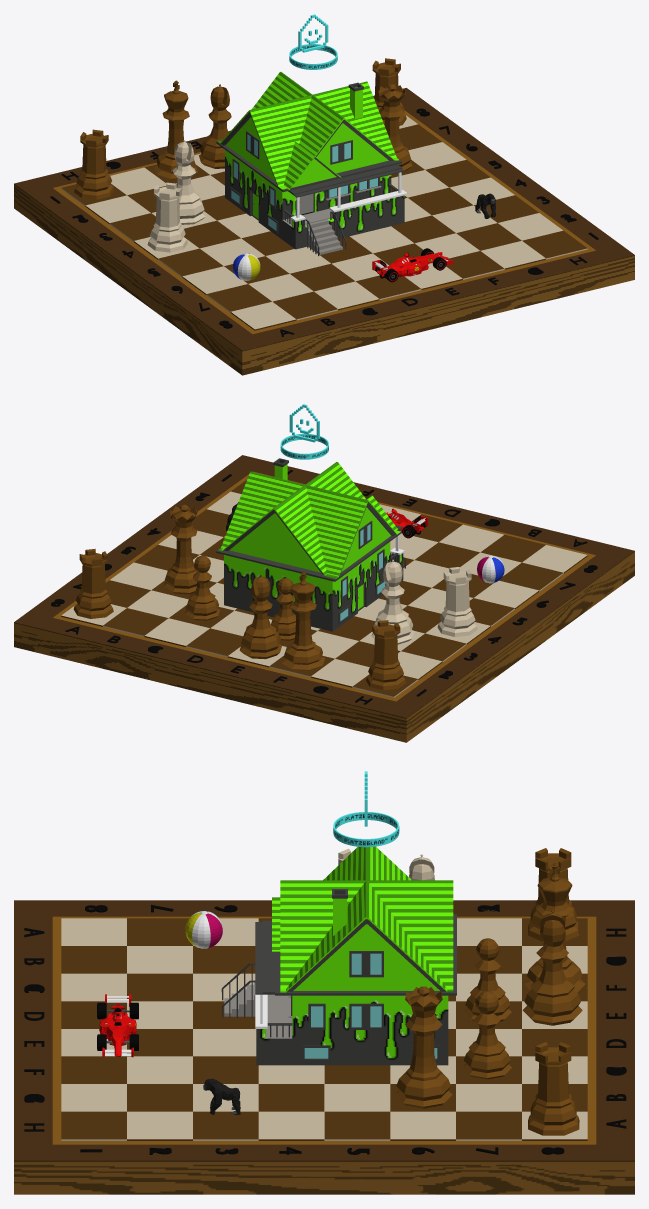
3 views of the same model, one above another, from view 1: azimuth 30°, elevation 25°; view 2: azimuth 150°, elevation 25°; view 3: azimuth 270°, elevation 25° (orthographic). The views are drawn at different scales.
Parts seen in each view (by area): view 1: Cube.002, Cube.754, VEHICLES_FORMULA_1, TYPE_PREMIUM, OBJRANDOM_BEACHBALL; view 2: Cube.002, Cube.754, TYPE_PREMIUM, OBJRANDOM_BEACHBALL, VEHICLES_FORMULA_1; view 3: Cube.002, Cube.754, VEHICLES_FORMULA_1, TYPE_PREMIUM, OBJRANDOM_BEACHBALL, ANIMAL_GORILA.
Boxes of the visible parts, x1,y1,x2,y2 form: Cube.002: (14, 58, 634, 375); Cube.754: (216, 72, 407, 256); VEHICLES_FORMULA_1: (372, 248, 453, 282); TYPE_PREMIUM: (289, 14, 337, 69); OBJRANDOM_BEACHBALL: (233, 253, 260, 280); Cube.002: (14, 455, 634, 742); Cube.754: (216, 458, 405, 631); TYPE_PREMIUM: (280, 404, 328, 459); OBJRANDOM_BEACHBALL: (477, 555, 504, 583); VEHICLES_FORMULA_1: (386, 508, 428, 538); Cube.002: (14, 848, 634, 1194); Cube.754: (221, 846, 456, 1065); VEHICLES_FORMULA_1: (97, 994, 138, 1057); TYPE_PREMIUM: (333, 771, 399, 847); OBJRANDOM_BEACHBALL: (185, 911, 222, 948); ANIMAL_GORILA: (203, 1078, 240, 1114).
Size of the model in its own units: 3981 by 2155 by 4012.
Materials: 39 (4 with a texture image).
